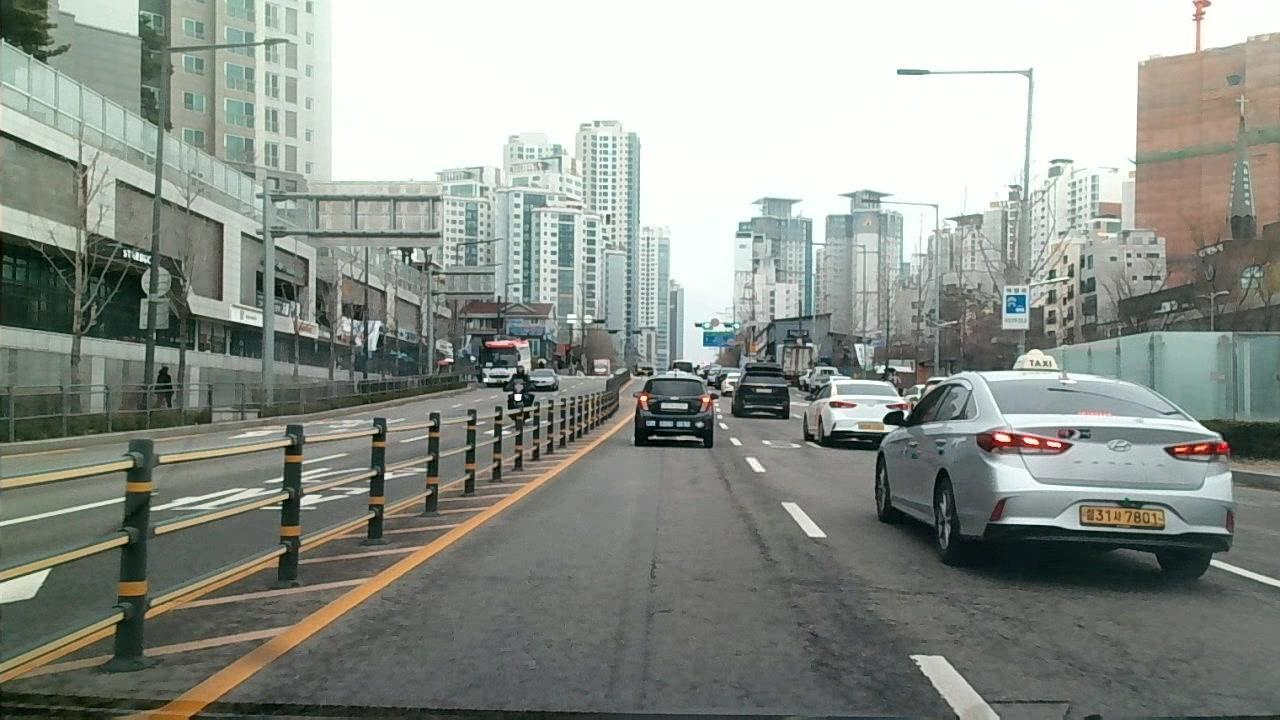erosion: (783, 561, 1001, 720)
vcrack: (716, 460, 771, 553), (633, 558, 663, 718)
